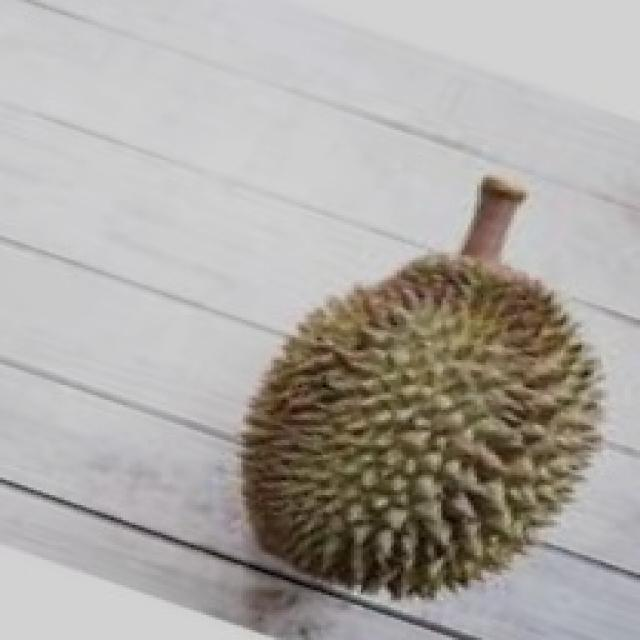fruit: (197, 225, 634, 637)
